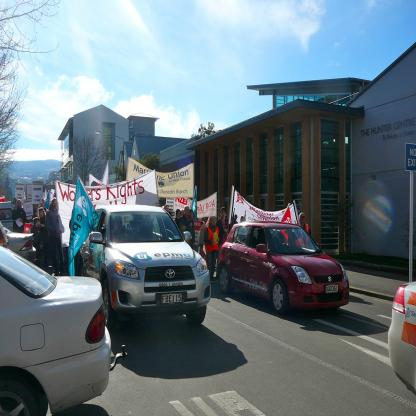Car: (1, 203, 352, 416), (389, 283, 416, 394)
